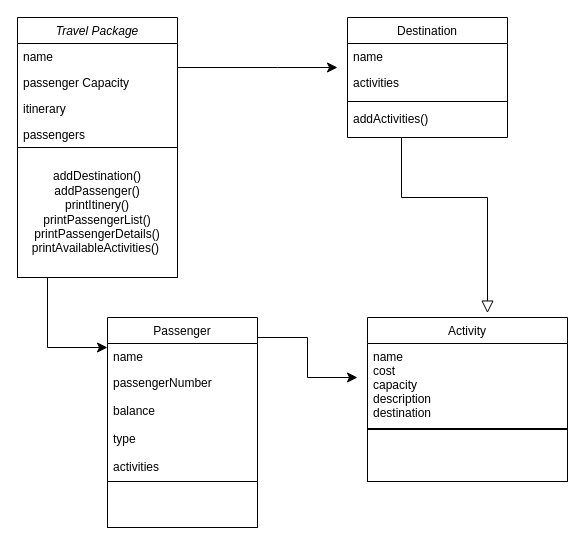
The diagram is 585 pixels wide and 545 high, and some of its shapes have lost their labels. Here are the shapes that lost their labels. From the top down, the centre of each, then its label:
At (x=467, y=455): "hasAvailableSpace() registerPassengerForsactivity()".
At (x=182, y=504): "hasSufficientBalance() deductBalance()".
